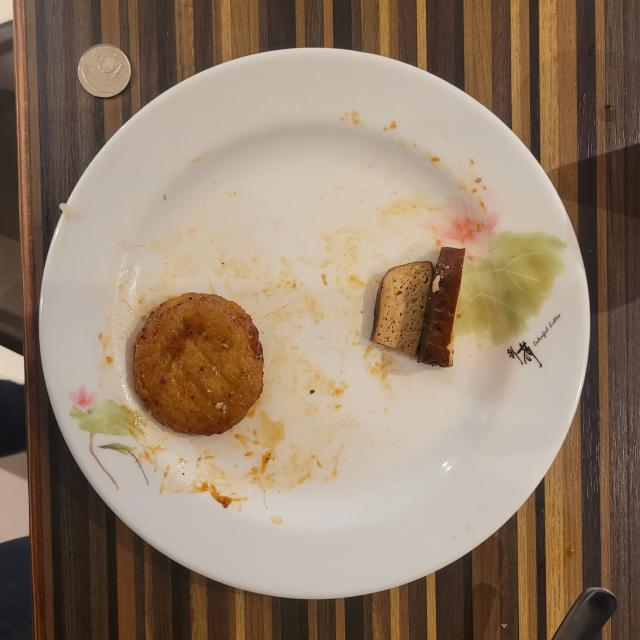coin: (78, 44, 131, 98)
firm tofu: (370, 248, 465, 368)
fish cake: (132, 292, 264, 435)
